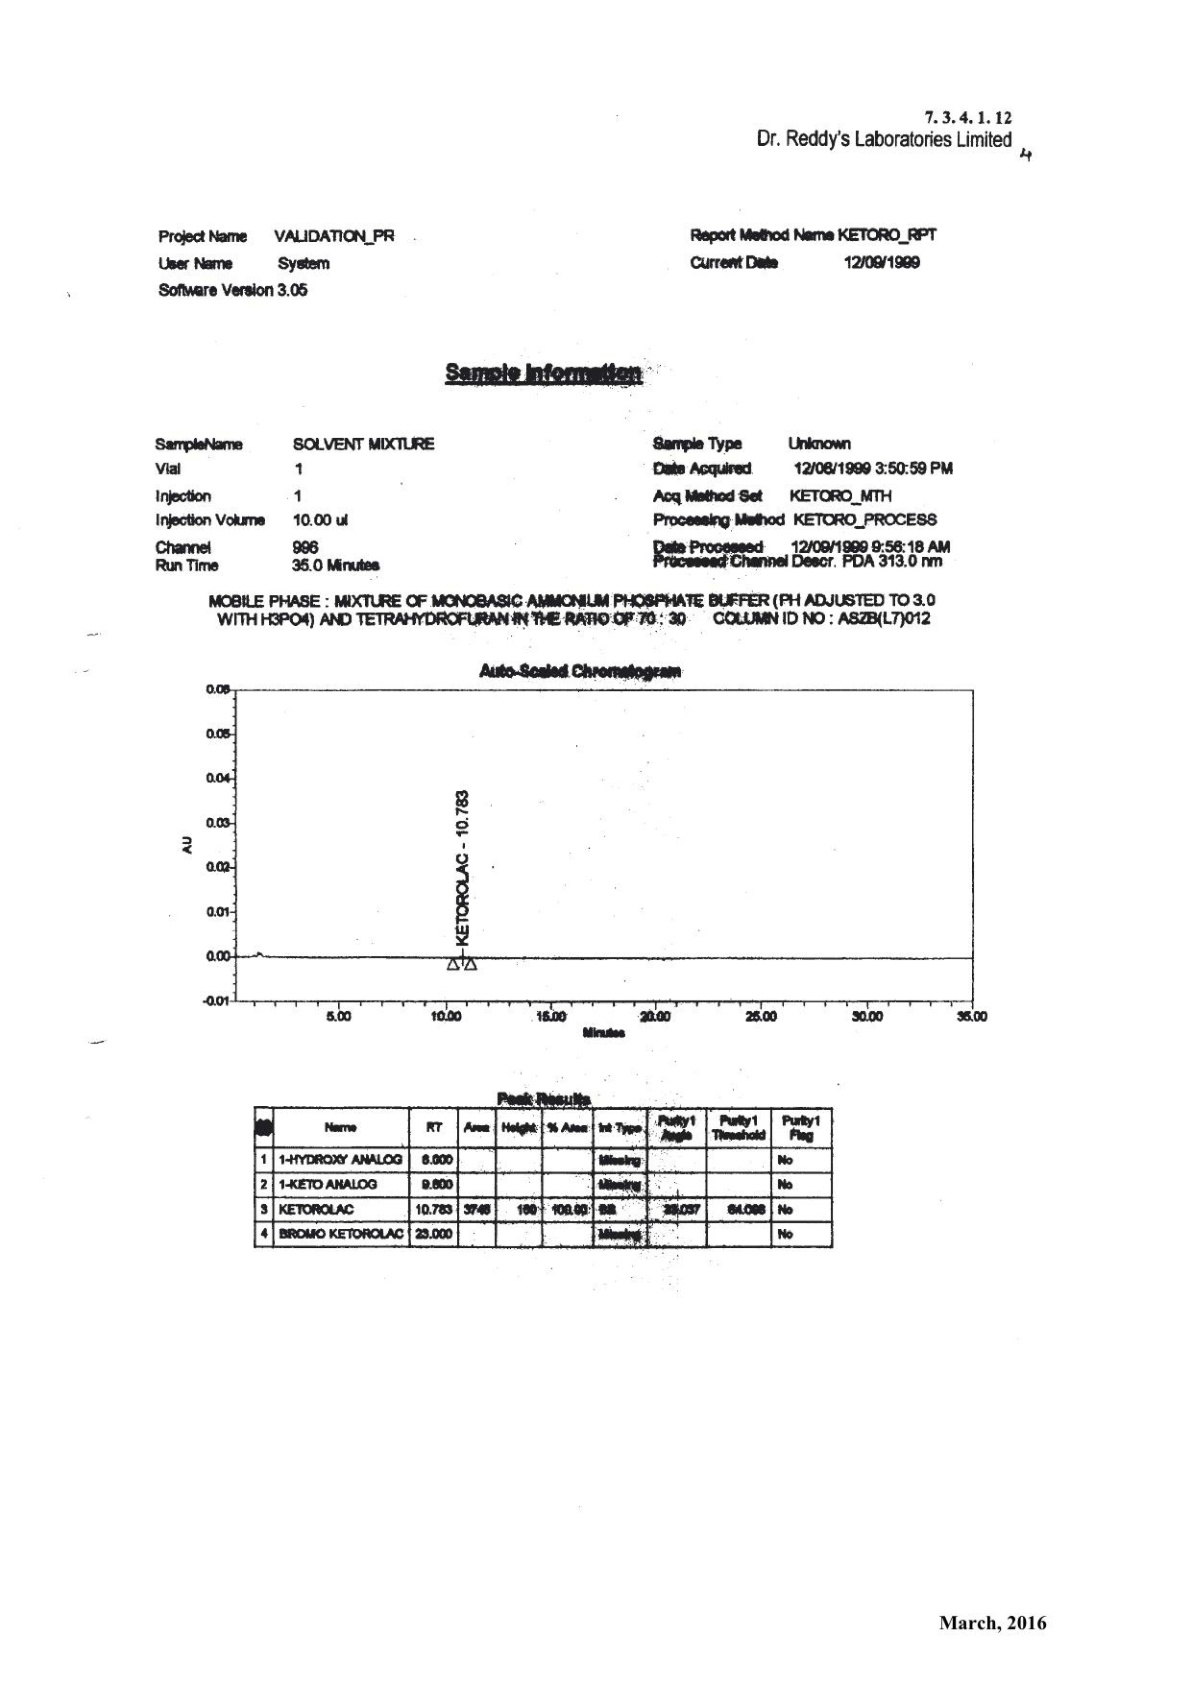full_lined: (252, 1104, 833, 1248)
nolines: (152, 434, 955, 570), (154, 224, 940, 303)
